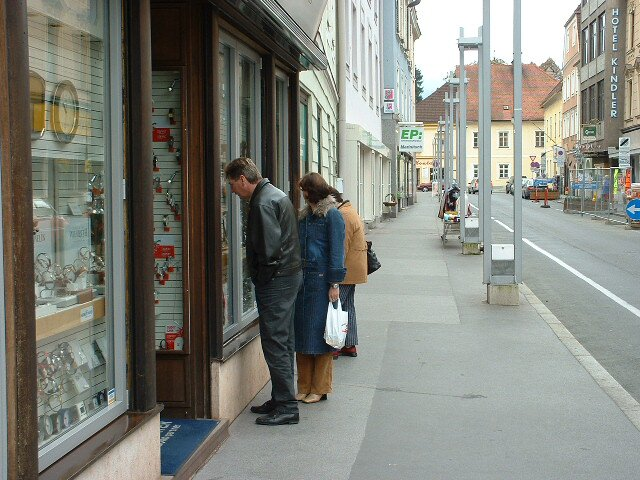person: (216, 154, 320, 429), (288, 168, 349, 406)
